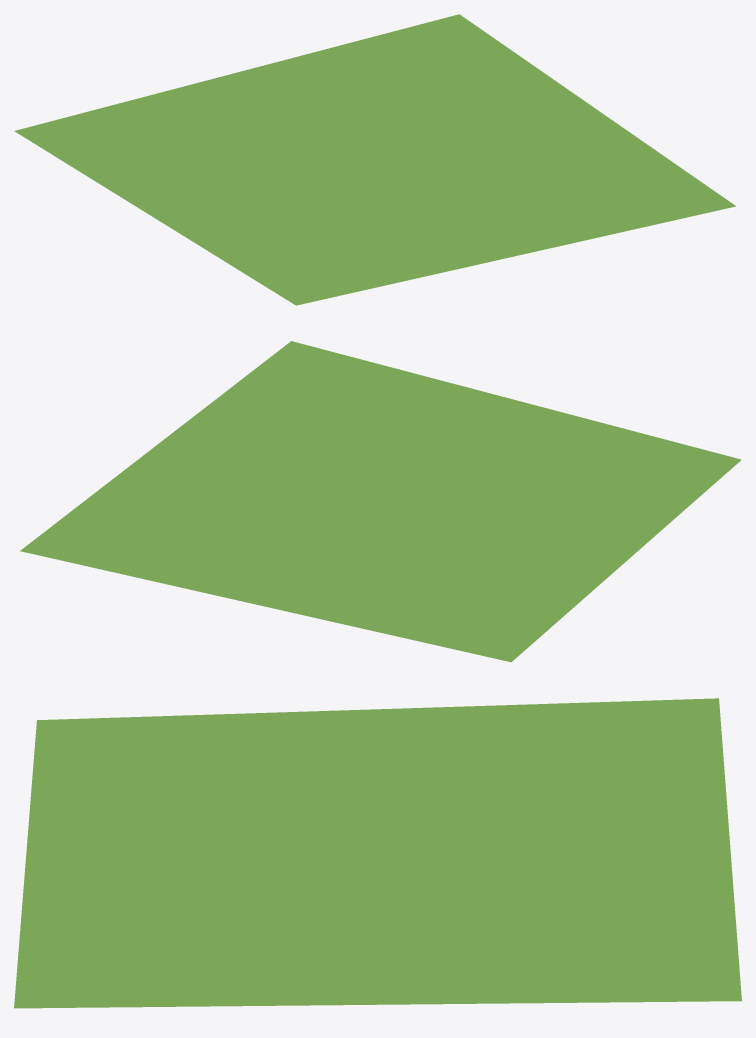
The model's file is confeti_00.glb.
The picture shows the model from 3 angles, top to bottom: view 1: azimuth 30°, elevation 25°; view 2: azimuth 150°, elevation 25°; view 3: azimuth 270°, elevation 25°; orthographic projection. The views are drawn at different scales.
Visible parts, largest first — view 1: confeti_00; view 2: confeti_00; view 3: confeti_00.
Part boxes in pixels (x1=…): confeti_00: x1=14, y1=14, x2=735, y2=305; confeti_00: x1=20, y1=341, x2=741, y2=662; confeti_00: x1=14, y1=698, x2=741, y2=1008.
Bounding box in the file's own units: 0.084 × 0.00144 × 0.0823.
